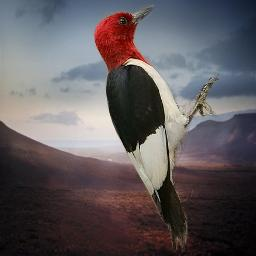Woodpecker: (91, 2, 219, 252)
